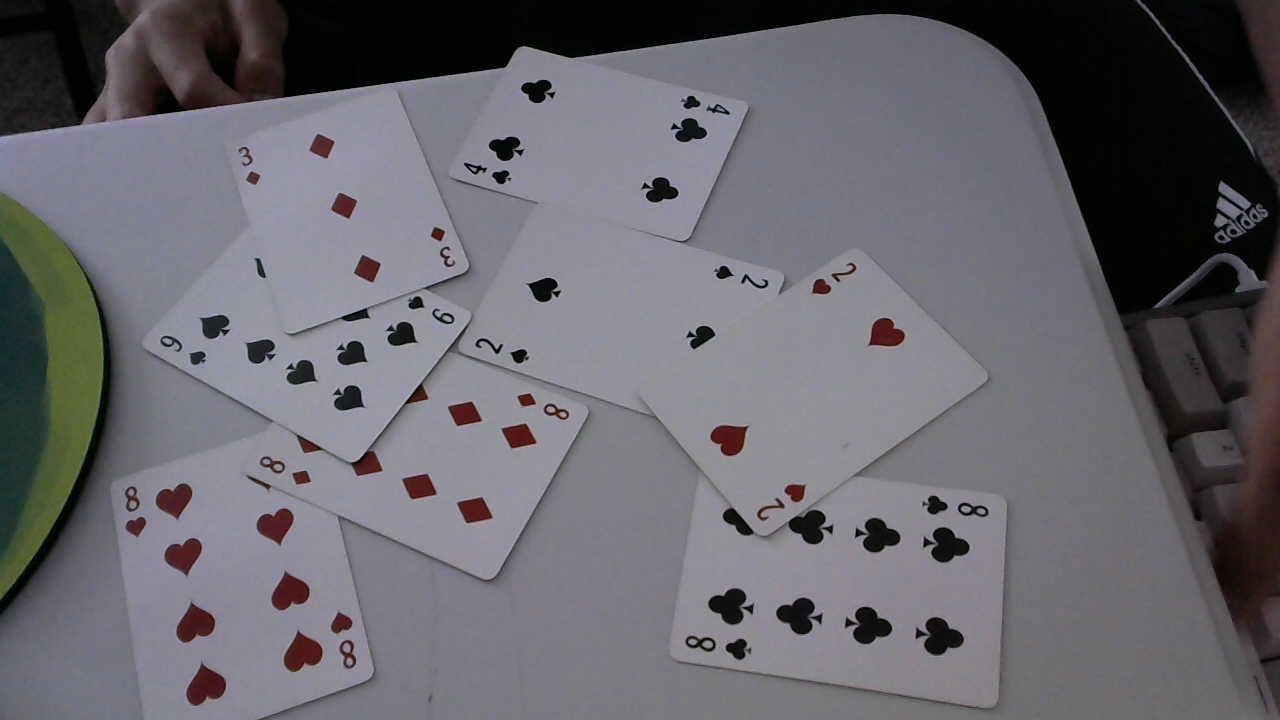2H: (756, 479, 813, 523), (808, 259, 859, 298)
2S: (709, 261, 772, 292), (474, 335, 532, 366)
3D: (427, 221, 458, 269), (237, 141, 264, 190)
4C: (460, 158, 517, 189), (677, 90, 736, 116)
8C: (680, 632, 758, 664), (917, 488, 990, 521)
8D: (259, 452, 313, 490), (516, 387, 570, 422)
8H: (330, 607, 356, 673), (119, 483, 147, 539)
9S: (157, 330, 207, 371), (405, 291, 453, 328)
